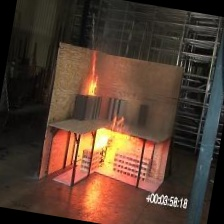fire: (84, 119, 135, 172), (79, 57, 110, 111)
